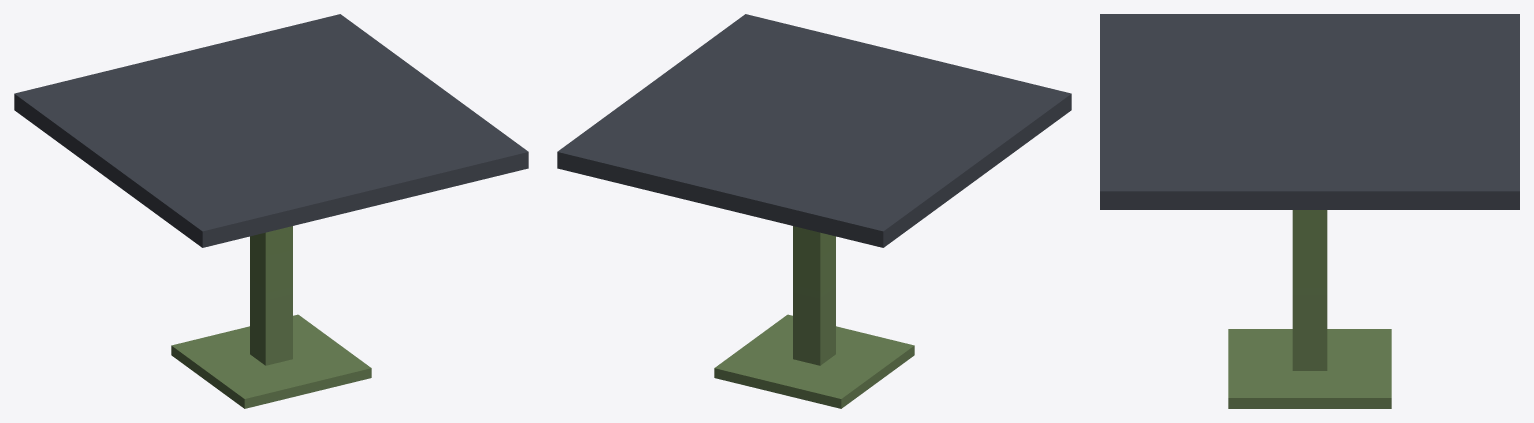
File: Table_02.fbx
3 views of the same model, side by side, from view 1: azimuth 30°, elevation 25°; view 2: azimuth 150°, elevation 25°; view 3: azimuth 270°, elevation 25° (orthographic). The views are drawn at different scales.
Parts seen in each view (by area): view 1: Table_02; view 2: Table_02; view 3: Table_02.
Boxes of the visible parts, bbox=[...] form: Table_02: bbox=[14, 14, 528, 408]; Table_02: bbox=[557, 14, 1071, 408]; Table_02: bbox=[1100, 14, 1519, 408].
Bounding box in the file's own units: 1.16 × 0.8257 × 1.16.
